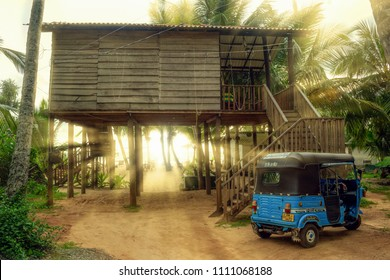threewheel: (249, 152, 366, 248)
